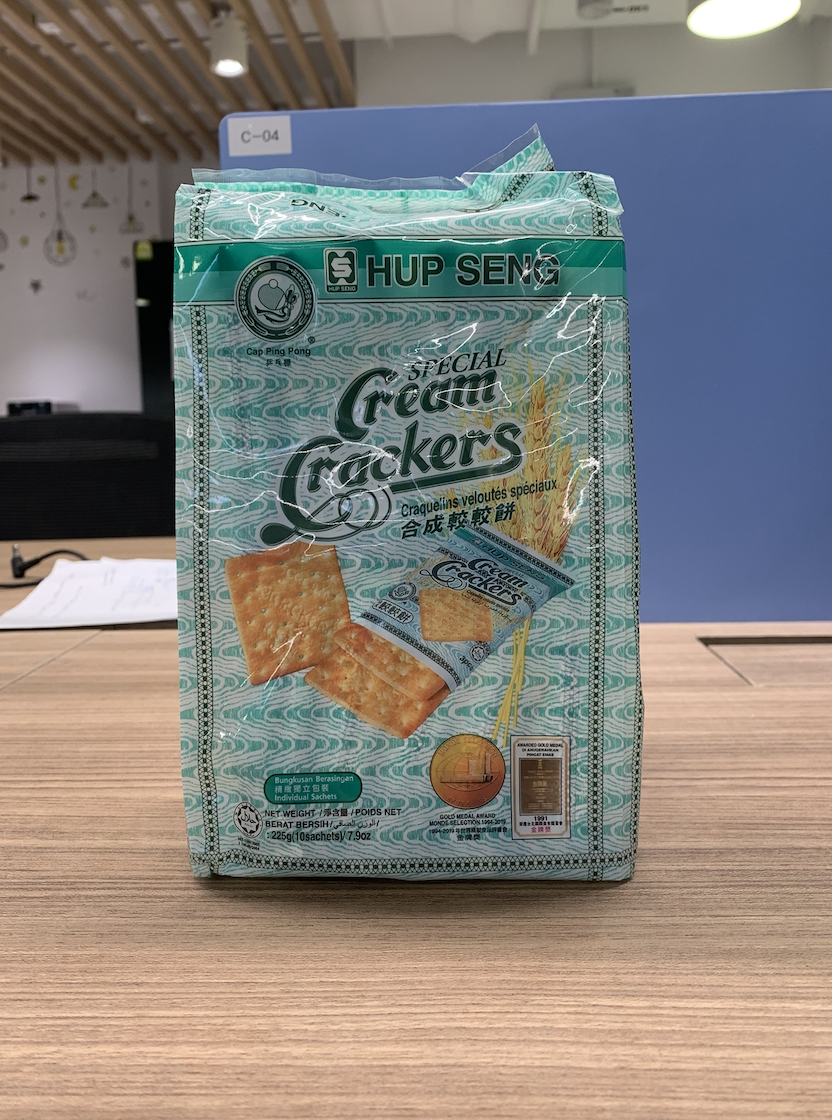crackers_200g-299g: (195, 193, 639, 863)
